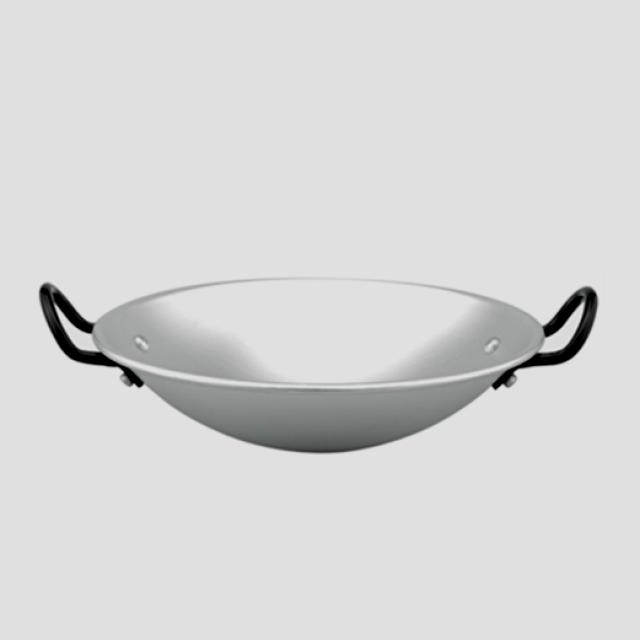Wajan: (21, 232, 607, 479)
